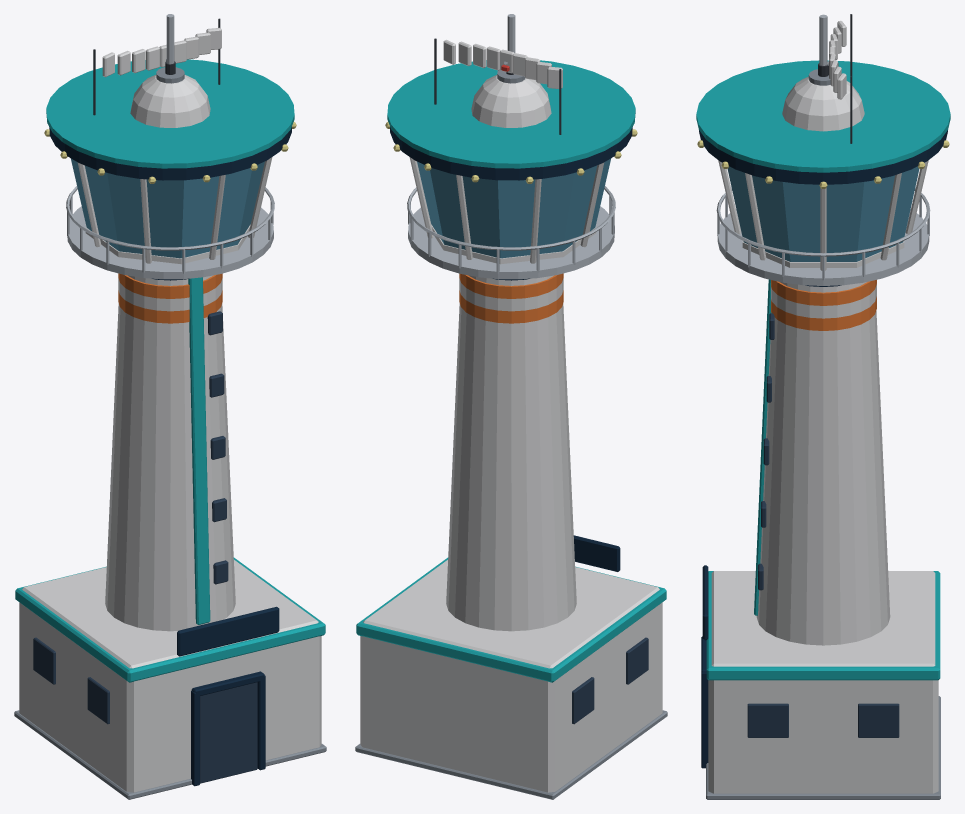
Rendered from skyport-tower.glb.
3 renders of one model, left to right at view 1: azimuth 30°, elevation 25°; view 2: azimuth 150°, elevation 25°; view 3: azimuth 270°, elevation 25°, orthographic. The views are drawn at different scales.
Visible parts, largest first — view 1: sp_tower_mesh, sp_tower_radar_mesh; view 2: sp_tower_mesh, sp_tower_radar_mesh; view 3: sp_tower_mesh, sp_tower_radar_mesh.
Part boxes in pixels (left/top/right/bottom): sp_tower_mesh: left=14, top=14, right=326, bottom=799; sp_tower_radar_mesh: left=102, top=27, right=221, bottom=77; sp_tower_mesh: left=355, top=14, right=667, bottom=799; sp_tower_radar_mesh: left=443, top=39, right=562, bottom=88; sp_tower_mesh: left=696, top=14, right=950, bottom=799; sp_tower_radar_mesh: left=818, top=20, right=846, bottom=99.
Bounding box in the file's own units: 5.6 × 17.6 × 5.52.
